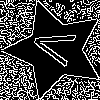V: (30, 24, 86, 70)
